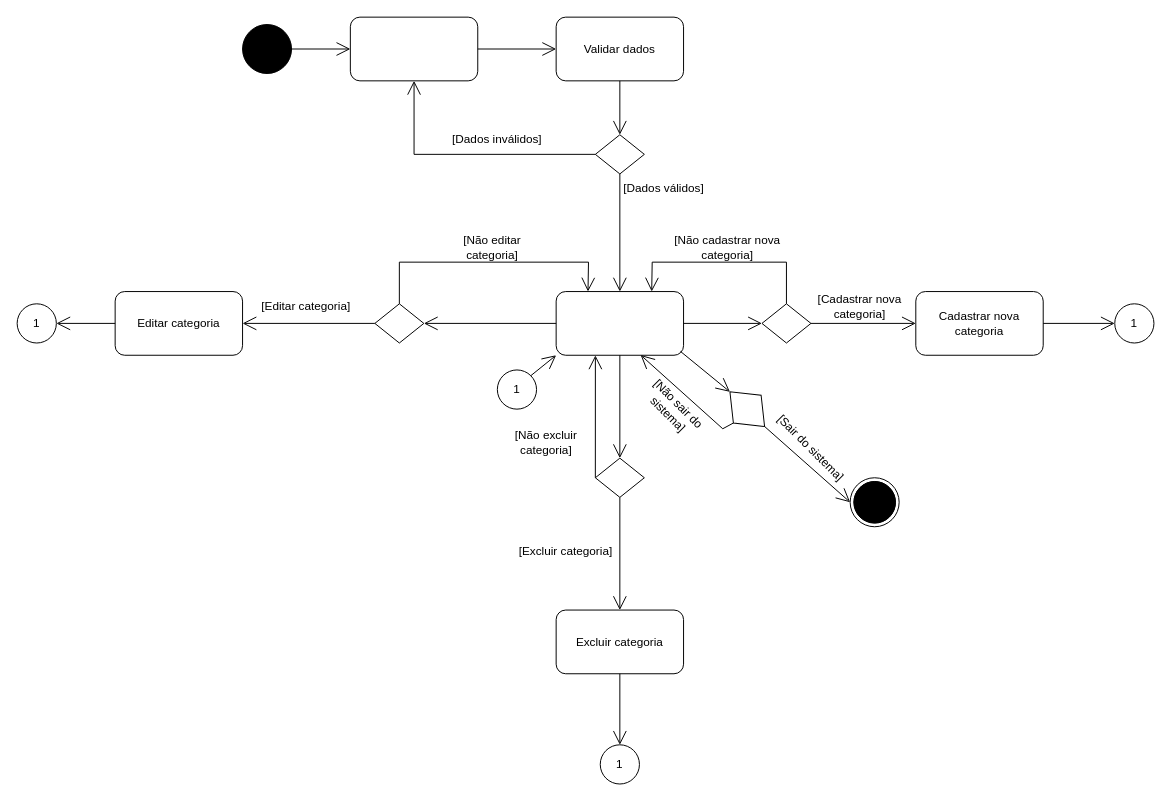
Image size: 1171x802. Some labels were removed from this diagram. Here are the shapes that lost their labels. From the top down, the box of each, then its label:
(349, 16, 478, 81): Receber dados
(555, 291, 684, 355): Visualizar categorias
